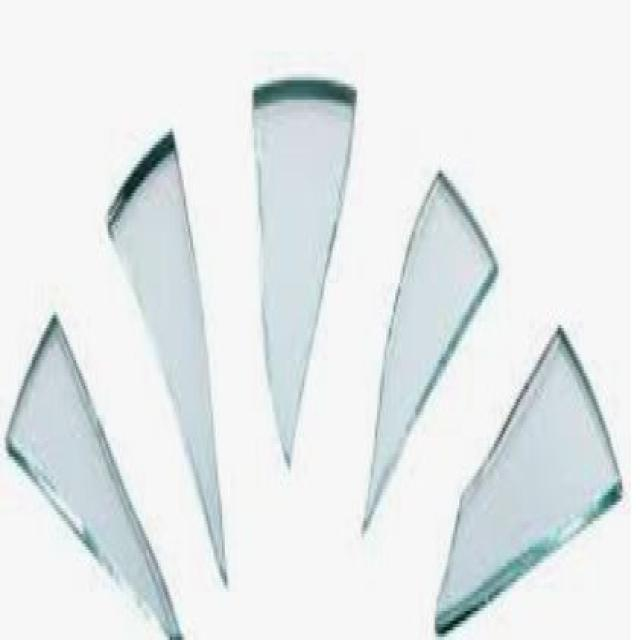electronic: (5, 78, 623, 640)
